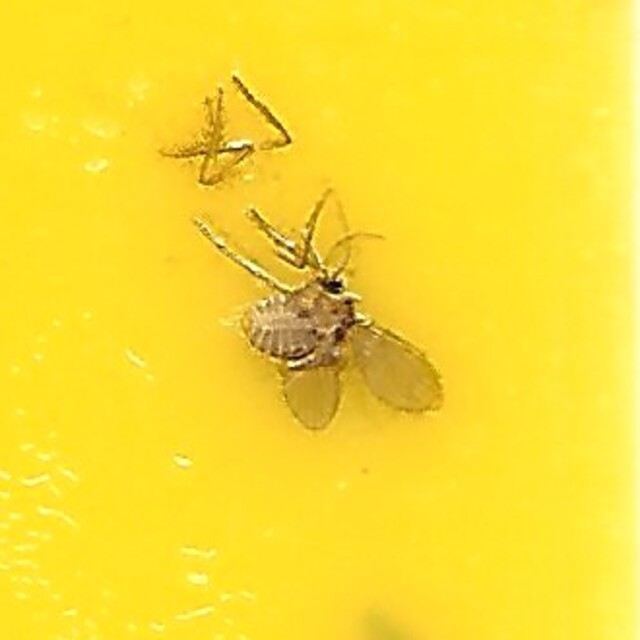Nematocera: (194, 208, 446, 432)
